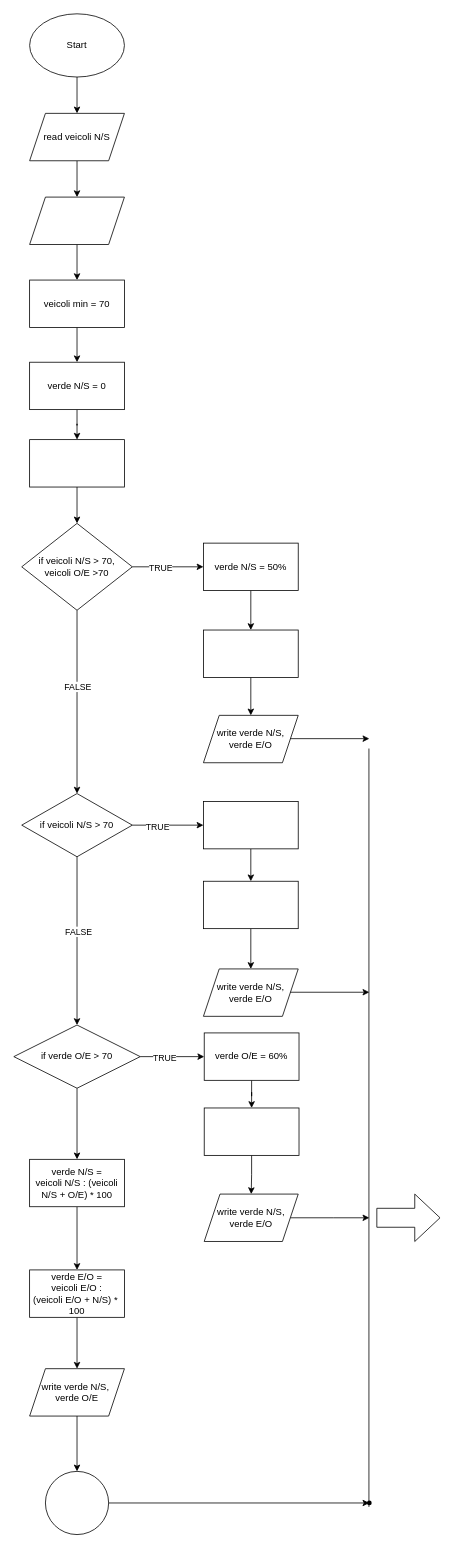
Some shapes in this 454 by 1548 pixel diagram are drawn without their labels. The shapes that lost their labels are listed below. From the top down, each one's box as (x1, y1, x2, y2) in pixels, then its label:
(29, 196, 124, 245): read veicoli O/E
(29, 439, 124, 487): verde O/E = 0
(203, 629, 298, 677): verde O/E = 50%
(203, 801, 298, 849): verde N/S = 60 %
(203, 880, 298, 929): verde O/E = 40%
(203, 1107, 299, 1155): verde N/S = 40%
(45, 1471, 109, 1535): End
